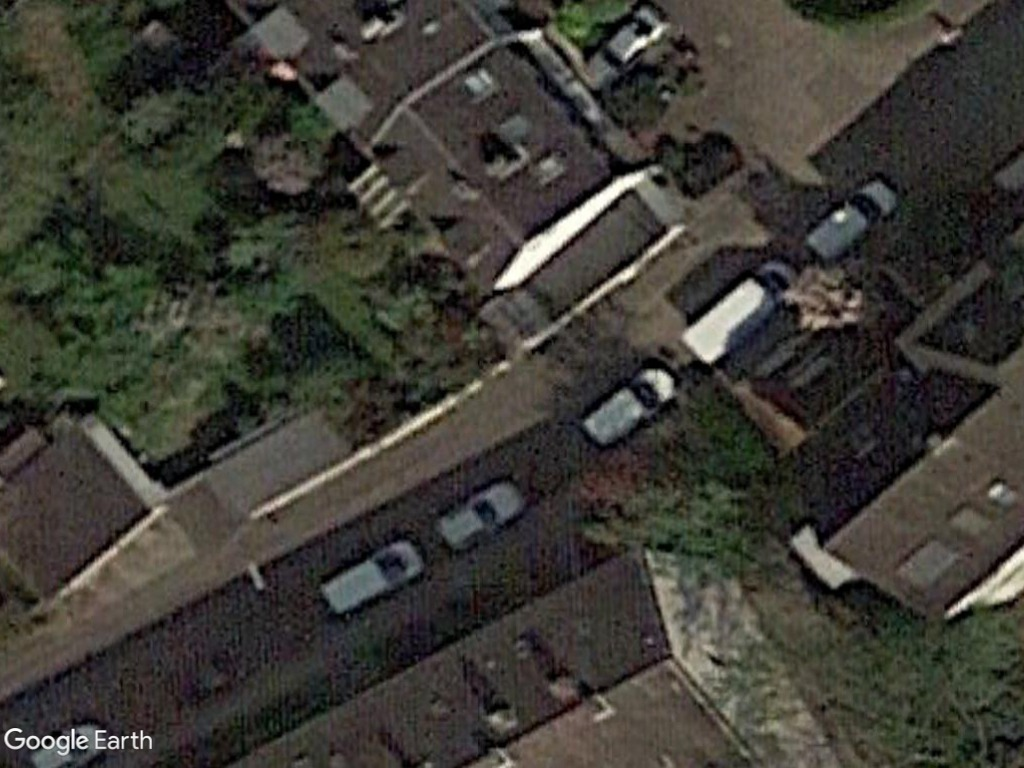car: (428, 473, 531, 553)
van: (674, 252, 799, 370), (567, 360, 696, 454), (796, 174, 906, 271), (314, 538, 438, 622)
